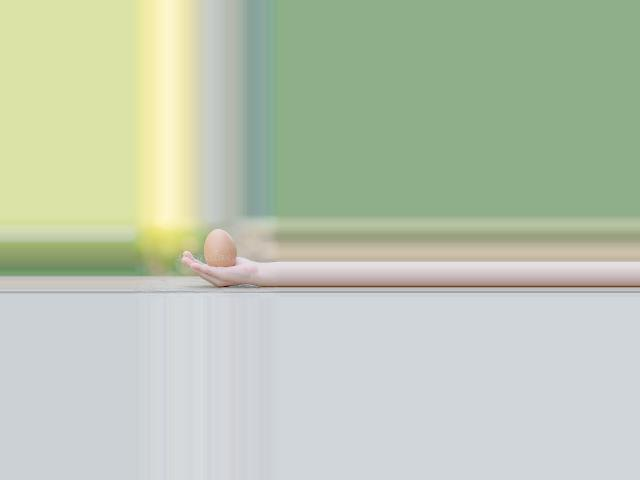egg: (204, 229, 238, 267)
